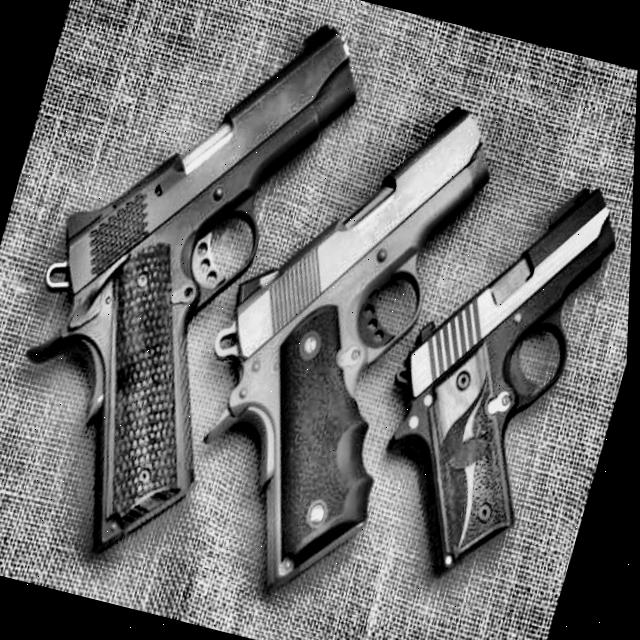pistol: (22, 18, 370, 559)
